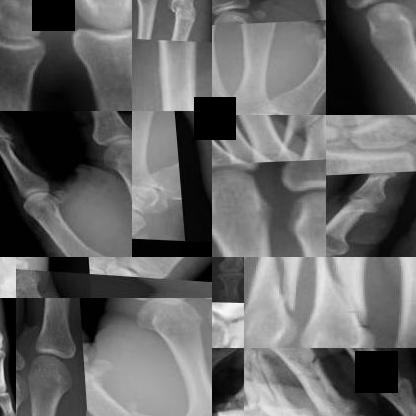fracture: (302, 257, 378, 333), (244, 257, 308, 330), (244, 348, 286, 413), (268, 115, 325, 158), (334, 348, 384, 388), (288, 348, 329, 385), (108, 398, 182, 415), (16, 266, 48, 297), (165, 0, 201, 24), (212, 406, 244, 415)
